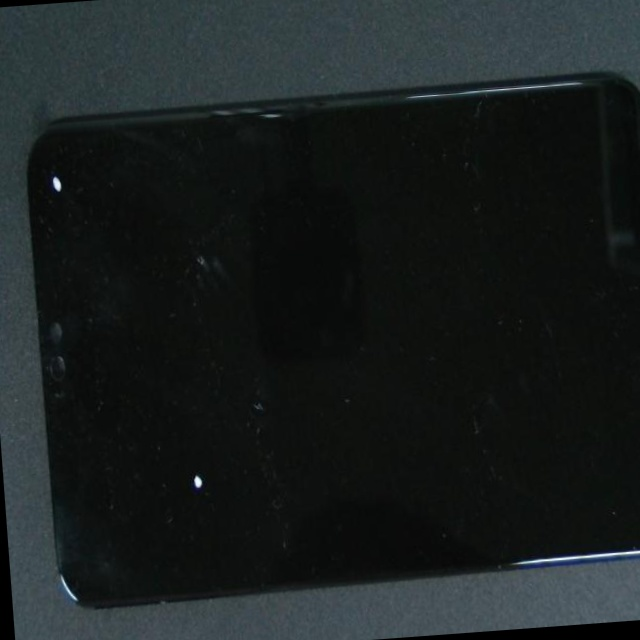stain: (80, 185, 291, 640), (24, 52, 95, 231)
